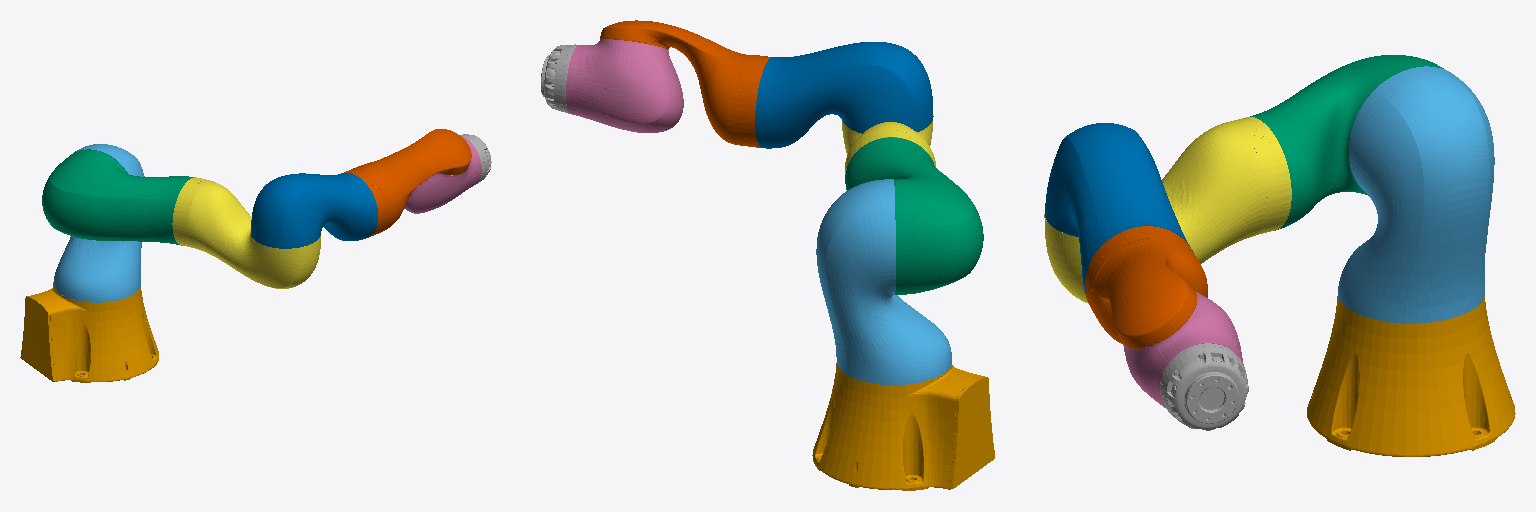
The robot description file, URDF, robot "iiwa_narrowerd_range":
<?xml version="1.0" encoding="UTF-8"?>
<robot name="iiwa_narrowerd_range">
  <joint name="iiwa_joint_1" type="revolute">
    <origin xyz="0. -0.0093516 0.1575 " rpy="0. 0. 0."/>
    <parent link="world"/>
    <child link="iiwa_link_1"/>
    <axis xyz="0. 0. 1."/>
    <limit lower="-2.9670597" upper="2.9670595" effort="300." velocity="9.9999995"/>
  </joint>
  <joint name="iiwa_joint_2" type="revolute">
    <origin xyz="0. -0. 0.2025" rpy="1.5707963 0.0000002 -1.0227649"/>
    <parent link="iiwa_link_1"/>
    <child link="iiwa_link_2"/>
    <axis xyz="0. 0. 1."/>
    <limit lower="-1.5707963" upper="1.5707963" effort="300." velocity="9.9999995"/>
  </joint>
  <joint name="iiwa_joint_3" type="revolute">
    <origin xyz="0.2045 0. -0. " rpy="1.5707965 0.0000001 1.5707966"/>
    <parent link="iiwa_link_2"/>
    <child link="iiwa_link_3"/>
    <axis xyz="0. 0. 1."/>
    <limit lower="-1.5707963" upper="1.5707963" effort="300." velocity="9.9999995"/>
  </joint>
  <joint name="iiwa_joint_4" type="revolute">
    <origin xyz="0.0000001 -0. 0.2155 " rpy="1.5707965 -0.0000002 1.5707963"/>
    <parent link="iiwa_link_3"/>
    <child link="iiwa_link_4"/>
    <axis xyz="0. 0. 1."/>
    <limit lower="-2.0943951" upper="2.0943951" effort="300." velocity="9.9999995"/>
  </joint>
  <joint name="iiwa_joint_5" type="revolute">
    <origin xyz="-0.1760573 0.0551731 -0. " rpy="1.5707963 0. -1.8744842"/>
    <parent link="iiwa_link_4"/>
    <child link="iiwa_link_5"/>
    <axis xyz="0. 0. 1."/>
    <limit lower="-1.5707963" upper="1.5707963" effort="300." velocity="9.9999995"/>
  </joint>
  <joint name="iiwa_joint_6" type="revolute">
    <origin xyz="-0.0000001 -0. 0.2155 " rpy="1.5707961 -0.0000002 0.5585053"/>
    <parent link="iiwa_link_5"/>
    <child link="iiwa_link_6"/>
    <axis xyz="0. 0. 1."/>
    <limit lower="-1.7453293" upper="1.7453293" effort="300." velocity="9.9999995"/>
  </joint>
  <joint name="iiwa_joint_7" type="revolute">
    <origin xyz="0. 0.081 0. " rpy="1.5707963 -0.0000002 3.1415927"/>
    <parent link="iiwa_link_6"/>
    <child link="iiwa_link_7"/>
    <axis xyz="0. 0. 1."/>
    <limit lower="0." upper="0." effort="300." velocity="9.9999995"/>
  </joint>
  <joint name="root_joint" type="fixed">
    <origin xyz="-0. 0.0093516 -0.0000001" rpy="0. 0. 0."/>
    <parent link="iiwa14"/>
    <child link="world"/>
  </joint>
  <link name="iiwa14"/>
  <link name="iiwa_link_1">
    <inertial>
      <origin xyz="0. -0.03 0.12" rpy="0. 0. 0."/>
      <mass value="4."/>
      <inertia ixx="0.1" ixy="0." ixz="0." iyy="0.09" iyz="0." izz="0.02"/>
    </inertial>
    <visual>
      <origin xyz="0. 0. -0." rpy="0.0000001 -0.0000002 2.1188276"/>
      <geometry>
        <mesh filename="meshes/iiwa_link_1_visuals_link_1_mesh.obj" scale="1. 1. 1."/>
      </geometry>
    </visual>
    <visual>
      <origin xyz="0. 0. -0." rpy="0.0000001 -0.0000002 2.1188276"/>
      <geometry>
        <mesh filename="meshes/iiwa_link_1_collisions_link_1_mesh.obj" scale="1. 1. 1."/>
      </geometry>
    </visual>
  </link>
  <link name="iiwa_link_2">
    <inertial>
      <origin xyz="0.0003 0.059 0.042 " rpy="0. 0. 0."/>
      <mass value="4."/>
      <inertia ixx="0.05" ixy="0." ixz="0." iyy="0.018" iyz="0." izz="0.044"/>
    </inertial>
    <visual>
      <origin xyz="0. -0. -0." rpy="-0.0000002 -0.0000001 -1.5707961"/>
      <geometry>
        <mesh filename="meshes/iiwa_link_2_visuals_link_2_mesh.obj" scale="1. 1. 1."/>
      </geometry>
    </visual>
    <visual>
      <origin xyz="0. -0. -0." rpy="-0.0000002 -0.0000001 -1.5707961"/>
      <geometry>
        <mesh filename="meshes/iiwa_link_2_collisions_link_2_mesh.obj" scale="1. 1. 1."/>
      </geometry>
    </visual>
  </link>
  <link name="iiwa_link_3">
    <inertial>
      <origin xyz="0. 0.03 0.13" rpy="0. 0. 0."/>
      <mass value="3."/>
      <inertia ixx="0.08" ixy="0." ixz="0." iyy="0.075" iyz="0." izz="0.01"/>
    </inertial>
    <visual>
      <origin xyz="0. -0. -0." rpy="0.0000002 -0.0000002 1.5707963"/>
      <geometry>
        <mesh filename="meshes/iiwa_link_3_visuals_link_3_mesh.obj" scale="1. 1. 1."/>
      </geometry>
    </visual>
    <visual>
      <origin xyz="0. -0. -0." rpy="0.0000002 -0.0000002 1.5707963"/>
      <geometry>
        <mesh filename="meshes/iiwa_link_3_collisions_link_3_mesh.obj" scale="1. 1. 1."/>
      </geometry>
    </visual>
  </link>
  <link name="iiwa_link_4">
    <inertial>
      <origin xyz="0. 0.067 0.034" rpy="0. 0. 0."/>
      <mass value="2.7"/>
      <inertia ixx="0.03" ixy="0." ixz="0." iyy="0.01" iyz="0." izz="0.029"/>
    </inertial>
    <visual>
      <origin xyz="0. -0. -0." rpy="0.0000001 -0.0000001 1.2671084"/>
      <geometry>
        <mesh filename="meshes/iiwa_link_4_visuals_link_4_mesh.obj" scale="1. 1. 1."/>
      </geometry>
    </visual>
    <visual>
      <origin xyz="0. -0. -0." rpy="0.0000001 -0.0000001 1.2671084"/>
      <geometry>
        <mesh filename="meshes/iiwa_link_4_collisions_link_4_mesh.obj" scale="1. 1. 1."/>
      </geometry>
    </visual>
  </link>
  <link name="iiwa_link_5">
    <inertial>
      <origin xyz="0.0001 0.021 0.076 " rpy="0. 0. 0."/>
      <mass value="1.7"/>
      <inertia ixx="0.02" ixy="0." ixz="0." iyy="0.018" iyz="0." izz="0.005"/>
    </inertial>
    <visual>
      <origin xyz="-0. -0. -0." rpy="-0.0000001 -0.0000002 0.5585053"/>
      <geometry>
        <mesh filename="meshes/iiwa_link_5_visuals_link_5_mesh.obj" scale="1. 1. 1."/>
      </geometry>
    </visual>
    <visual>
      <origin xyz="-0. -0. -0." rpy="-0.0000001 -0.0000002 0.5585053"/>
      <geometry>
        <mesh filename="meshes/iiwa_link_5_collisions_link_5_mesh.obj" scale="1. 1. 1."/>
      </geometry>
    </visual>
  </link>
  <link name="iiwa_link_6">
    <inertial>
      <origin xyz="0. 0.0006 0.0004" rpy="0. 0. 0."/>
      <mass value="1.8"/>
      <inertia ixx="0.005" ixy="0." ixz="0." iyy="0.0036" iyz="0." izz="0.0047"/>
    </inertial>
    <visual>
      <origin xyz="0. -0. 0." rpy="0.0000001 0.0000001 -0. "/>
      <geometry>
        <mesh filename="meshes/iiwa_link_6_visuals_link_6_mesh.obj" scale="1. 1. 1."/>
      </geometry>
    </visual>
    <visual>
      <origin xyz="0. -0. 0." rpy="0.0000001 0.0000001 -0. "/>
      <geometry>
        <mesh filename="meshes/iiwa_link_6_collisions_link_6_mesh.obj" scale="1. 1. 1."/>
      </geometry>
    </visual>
  </link>
  <link name="iiwa_link_7">
    <inertial>
      <origin xyz="0. 0. 0.02" rpy="0. 0. 0."/>
      <mass value="0.3"/>
      <inertia ixx="0.001" ixy="0." ixz="0." iyy="0.001" iyz="0." izz="0.001"/>
    </inertial>
    <visual>
      <origin xyz="0. -0. 0." rpy="-0. 0.0000001 0. "/>
      <geometry>
        <mesh filename="meshes/iiwa_link_7_visuals_link_7_mesh.obj" scale="1. 1. 1."/>
      </geometry>
    </visual>
    <visual>
      <origin xyz="0. -0. 0." rpy="-0. 0.0000001 0. "/>
      <geometry>
        <mesh filename="meshes/iiwa_link_7_collisions_link_7_mesh.obj" scale="1. 1. 1."/>
      </geometry>
    </visual>
  </link>
  <link name="world">
    <inertial>
      <origin xyz="-0.1 0. 0.07" rpy="0. 0. 0."/>
      <mass value="5."/>
      <inertia ixx="0.05" ixy="0." ixz="0." iyy="0.06" iyz="0." izz="0.03"/>
    </inertial>
    <visual>
      <origin xyz="0. -0.0093516 0.0000001" rpy="0. 0. 0."/>
      <geometry>
        <mesh filename="meshes/world_visuals_link_0_mesh.obj" scale="1. 1. 1."/>
      </geometry>
    </visual>
    <visual>
      <origin xyz="0. -0.0093516 0.0000001" rpy="0. 0. 0."/>
      <geometry>
        <mesh filename="meshes/world_collisions_link_0_mesh.obj" scale="1. 1. 1."/>
      </geometry>
    </visual>
  </link>
</robot>

--- What the picture shows (computed from the rendered views, not written in the file) ---
The picture shows the robot from 3 angles, left to right: view 1: azimuth 30°, elevation 25°; view 2: azimuth 150°, elevation 25°; view 3: azimuth 270°, elevation 25°; orthographic projection.
Model iiwa_narrowerd_range with 9 links and 8 joints (7 revolute, 1 fixed), rooted at iiwa14, posed all joints at 0.
Visible links, largest first — view 1: world, iiwa_link_2, iiwa_link_3, iiwa_link_4, iiwa_link_1, iiwa_link_5, iiwa_link_6; view 2: world, iiwa_link_1, iiwa_link_4, iiwa_link_2, iiwa_link_6, iiwa_link_5, iiwa_link_3, iiwa_link_7; view 3: iiwa_link_1, world, iiwa_link_3, iiwa_link_4, iiwa_link_5, iiwa_link_2, iiwa_link_7, iiwa_link_6.
Link boxes in pixels (x1,y1,x2,y2): world: (20,286,158,382); iiwa_link_2: (42,150,193,245); iiwa_link_3: (172,177,320,288); iiwa_link_4: (251,173,377,248); iiwa_link_1: (53,144,144,302); iiwa_link_5: (344,129,471,236); iiwa_link_6: (404,137,481,213); world: (812,363,994,490); iiwa_link_1: (816,179,951,384); iiwa_link_4: (755,42,933,148); iiwa_link_2: (845,137,983,294); iiwa_link_6: (566,39,683,132); iiwa_link_5: (600,20,770,147); iiwa_link_3: (842,121,935,174); iiwa_link_7: (541,44,576,113); iiwa_link_1: (1338,66,1494,323); world: (1307,296,1515,456); iiwa_link_3: (1044,117,1291,303); iiwa_link_4: (1045,123,1192,297); iiwa_link_5: (1085,226,1207,348); iiwa_link_2: (1250,55,1443,230); iiwa_link_7: (1160,343,1248,430); iiwa_link_6: (1123,292,1243,407).
Bounding box of the posed robot: 0.8726 × 0.5484 × 0.4746 m (x, y, z).
Meshes: 16 distinct files referenced, 15 mesh visuals loaded (15 OBJ); not drawn: 1 (reference not matched to a file when rendering).
